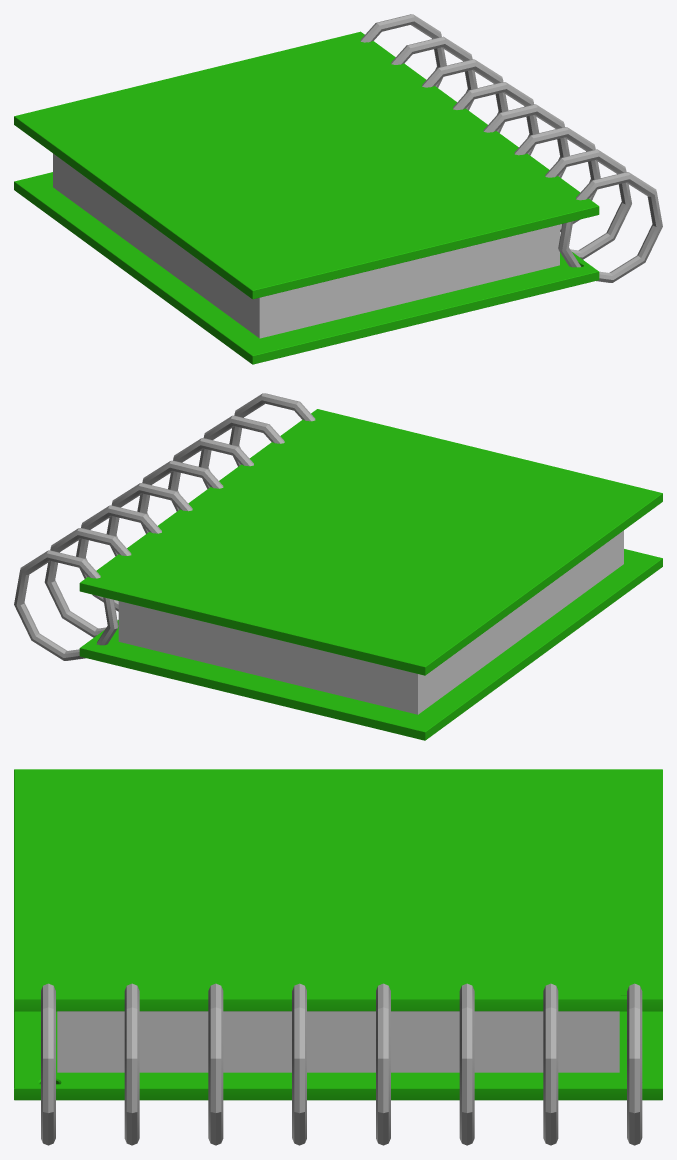
File: PRINCIPALOFFICEnotebook_001.fbx
The picture shows the model from 3 angles, top to bottom: view 1: azimuth 30°, elevation 25°; view 2: azimuth 150°, elevation 25°; view 3: azimuth 270°, elevation 25°; orthographic projection. The views are drawn at different scales.
Parts seen in each view (by area): view 1: PRINCIPALOFFICEnotebook.001; view 2: PRINCIPALOFFICEnotebook.001; view 3: PRINCIPALOFFICEnotebook.001.
Part boxes in pixels (x1,y1,x2,y2): PRINCIPALOFFICEnotebook.001: (14, 14, 662, 364); PRINCIPALOFFICEnotebook.001: (14, 393, 662, 740); PRINCIPALOFFICEnotebook.001: (14, 769, 662, 1145).
Bounding box in the file's own units: 30.34 × 7.33 × 29.66.
Materials: 2 (2 with a texture image).
